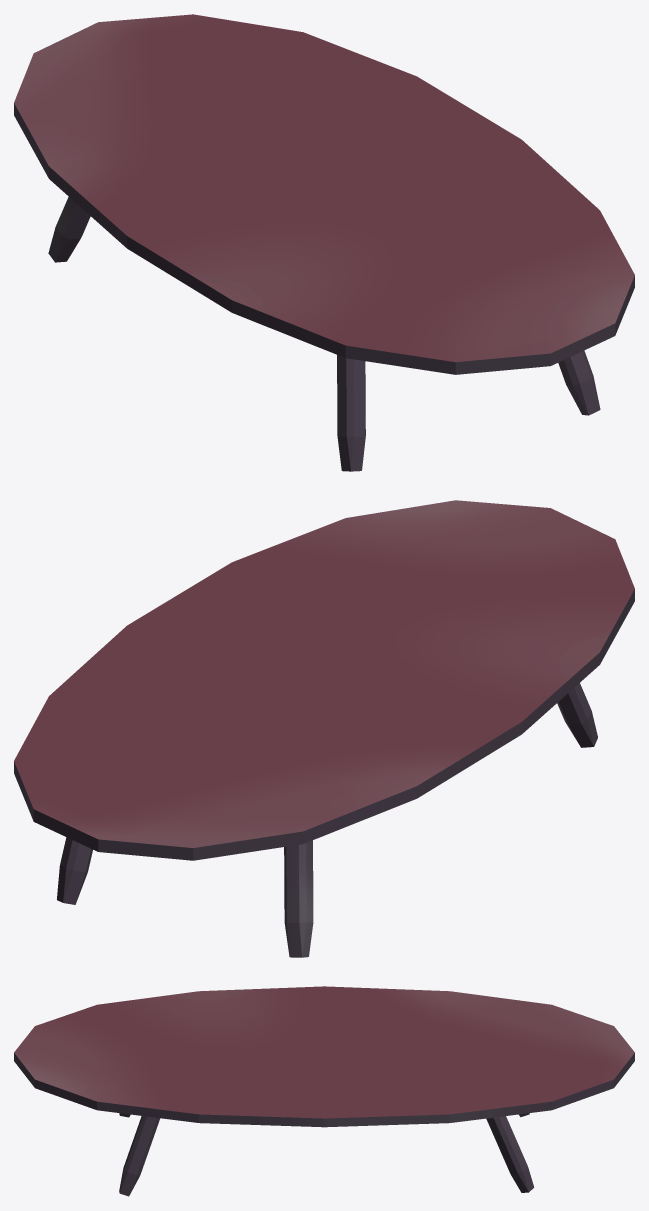
Rendered from MesaTeAlargada.fbx.
3 views of the same model, one above another, from view 1: azimuth 30°, elevation 25°; view 2: azimuth 150°, elevation 25°; view 3: azimuth 270°, elevation 25° (orthographic). The views are drawn at different scales.
Parts seen in each view (by area): view 1: Mesa; view 2: Mesa; view 3: Mesa.
Boxes of the visible parts, bbox=[...] form: Mesa: bbox=[14, 14, 634, 471]; Mesa: bbox=[14, 500, 634, 957]; Mesa: bbox=[14, 986, 634, 1196].
Size of the model in its own units: 166 by 60.34 by 329.
Materials: 1 (1 with a texture image).
